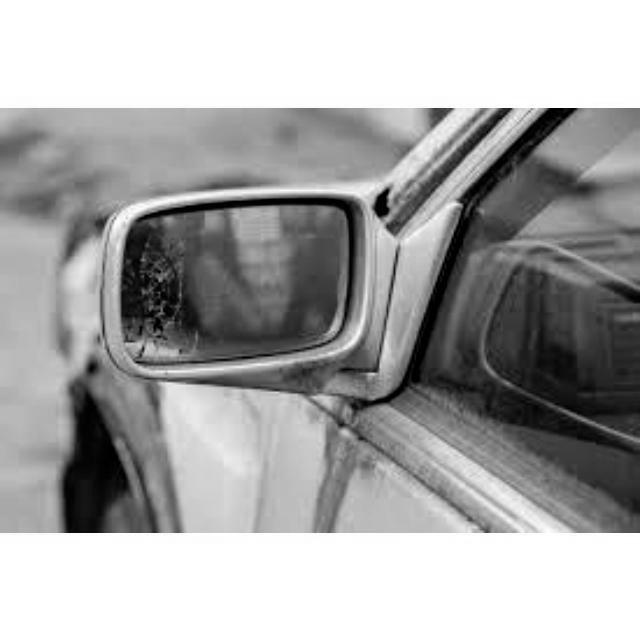Sidemirror-Damage: (80, 175, 384, 398)
